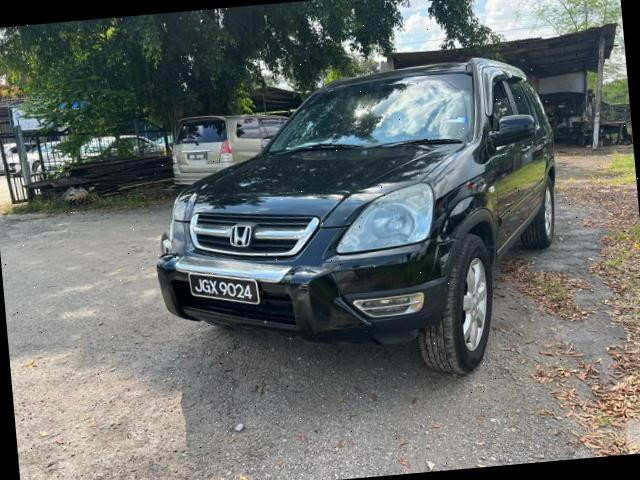License_Plate: (185, 269, 263, 310)
car: (139, 50, 585, 402)
